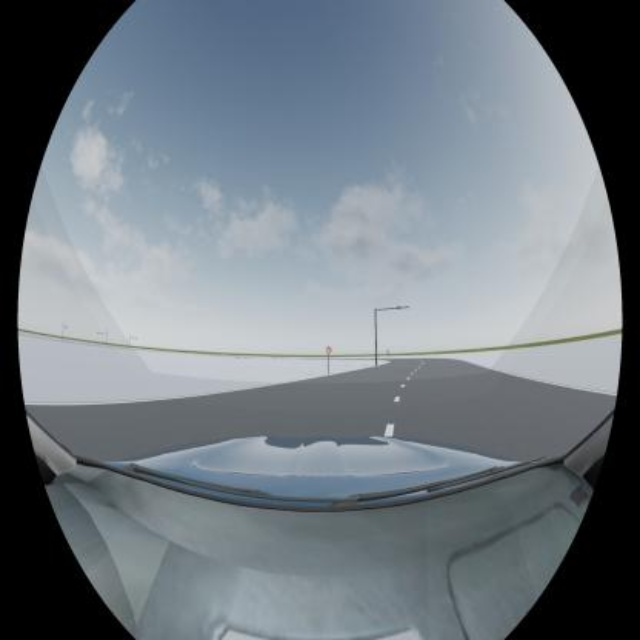Tốc độ tối đa cho phép 110km/h: (326, 346, 331, 354)
Đèn đỏ: (396, 306, 402, 310)
